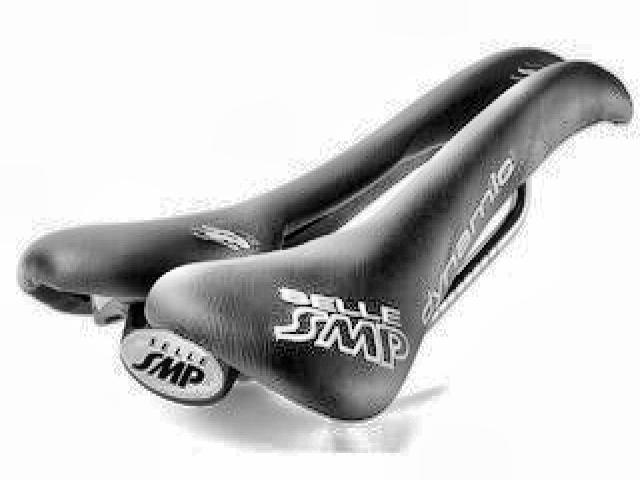saddle: (18, 41, 636, 431)
